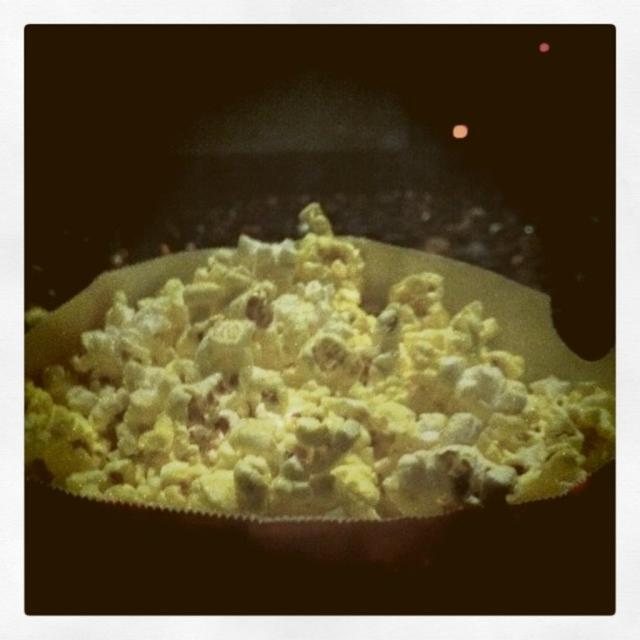Popcorn: (26, 202, 610, 521)
